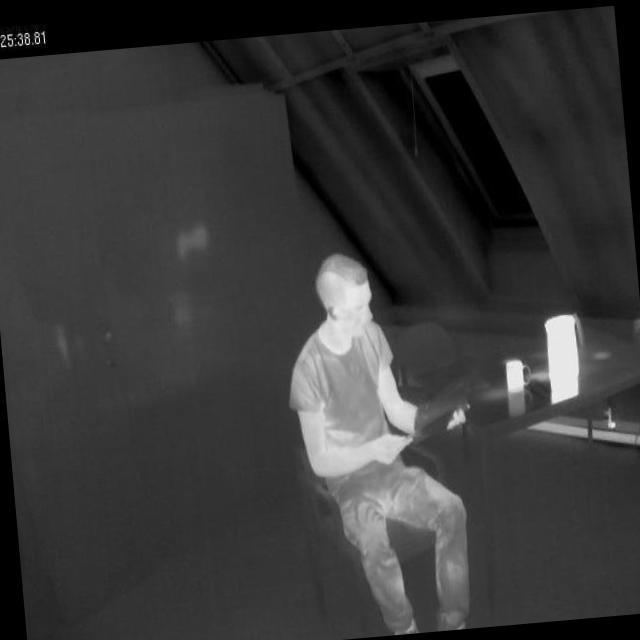person: (276, 237, 489, 640)
